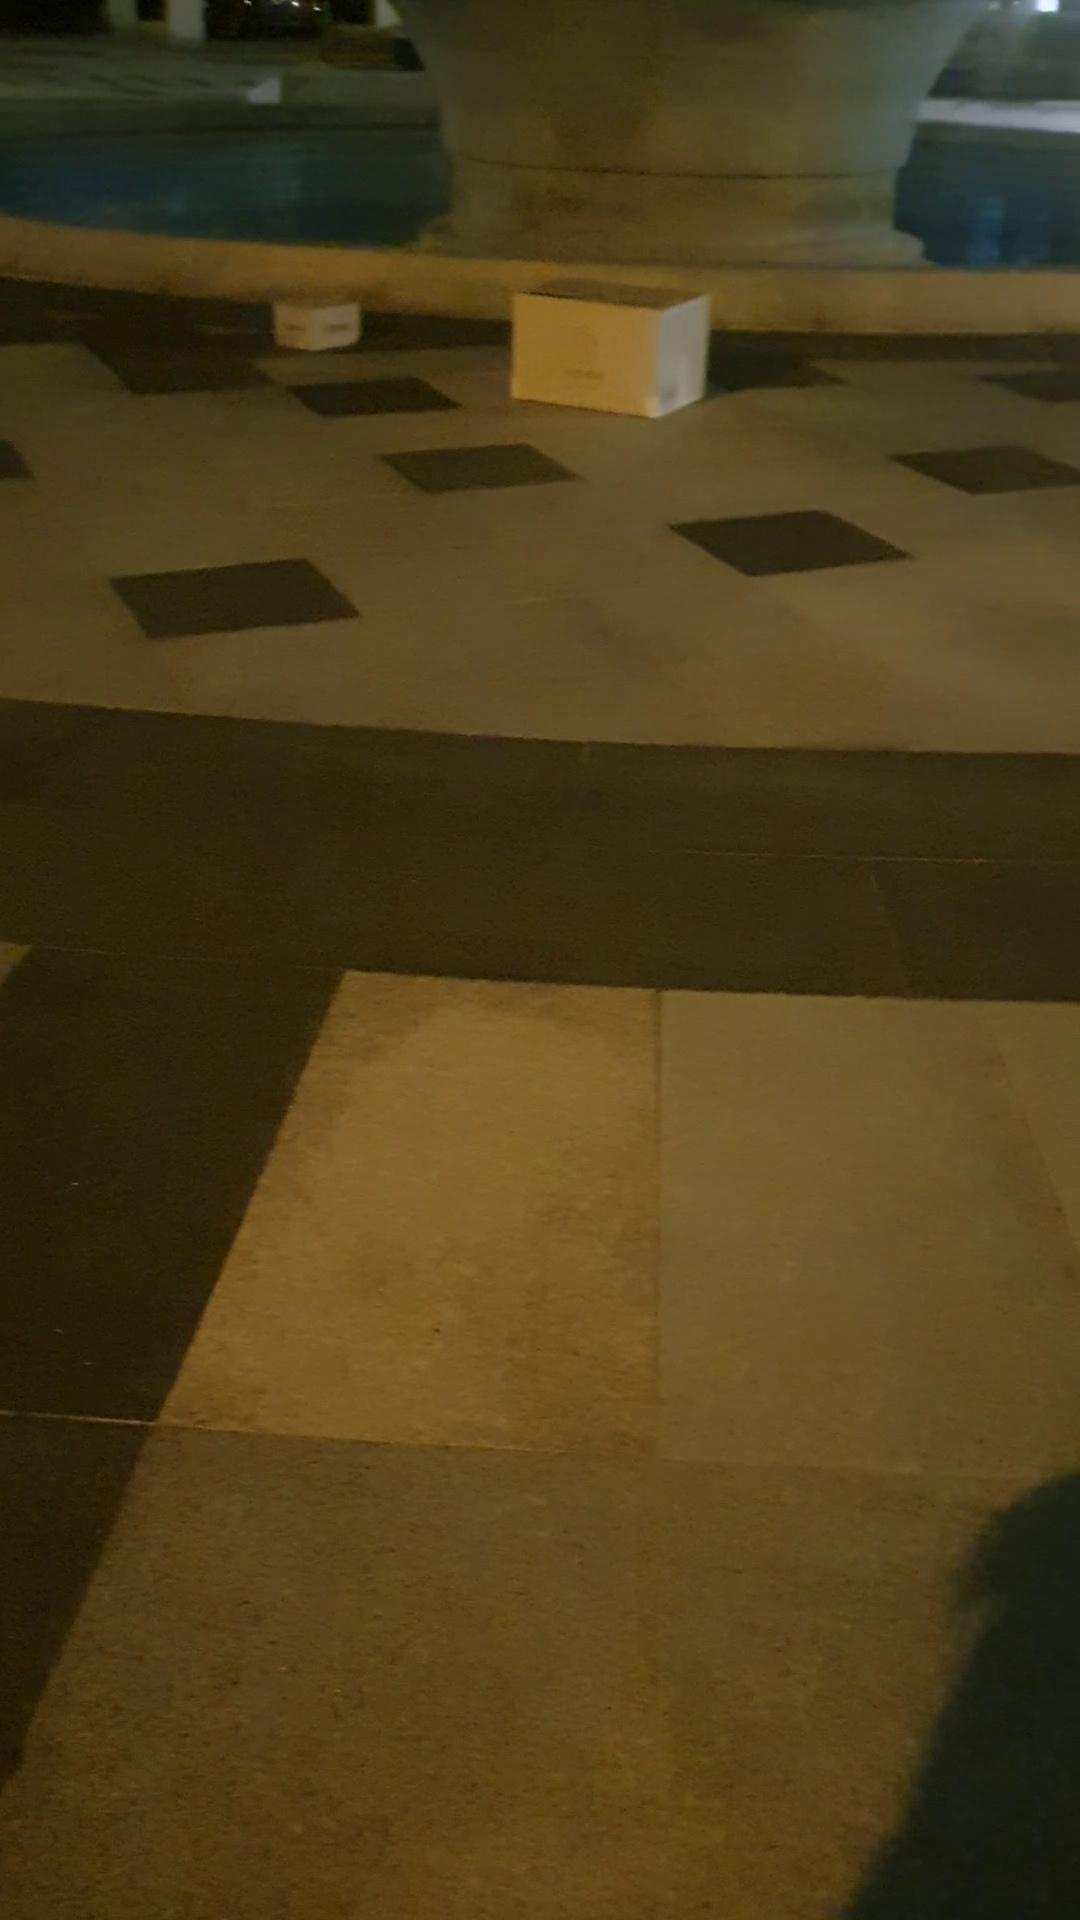Box: (488, 265, 723, 422), (266, 284, 373, 368)
